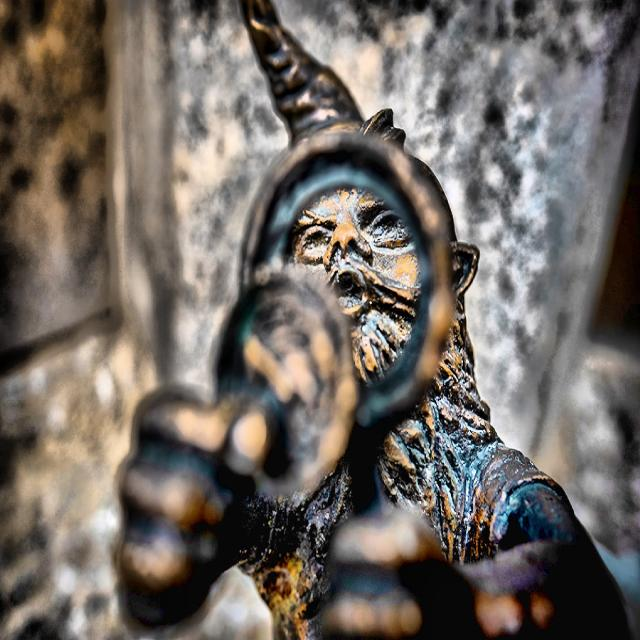Kolekcjoner: (118, 0, 629, 638)
